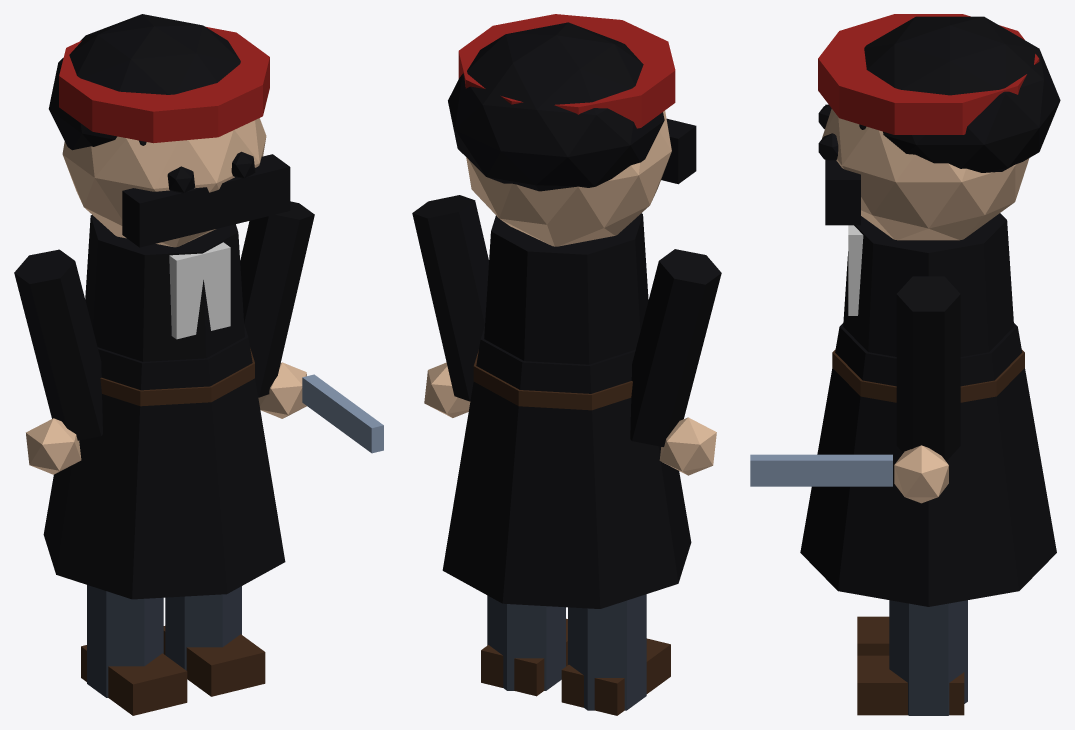
The model's file is SM_GZ_mon_bandit.fbx.
The picture shows the model from 3 angles, left to right: view 1: azimuth 30°, elevation 25°; view 2: azimuth 150°, elevation 25°; view 3: azimuth 270°, elevation 25°; orthographic projection. The views are drawn at different scales.
Parts seen in each view (by area): view 1: SM_GZ_mon_bandit; view 2: SM_GZ_mon_bandit; view 3: SM_GZ_mon_bandit.
Part boxes in pixels (bbox=[...]): SM_GZ_mon_bandit: bbox=[14, 14, 383, 715]; SM_GZ_mon_bandit: bbox=[412, 14, 721, 715]; SM_GZ_mon_bandit: bbox=[750, 14, 1060, 715].
Bounding box in the file's own units: 94.71 × 203 × 87.
